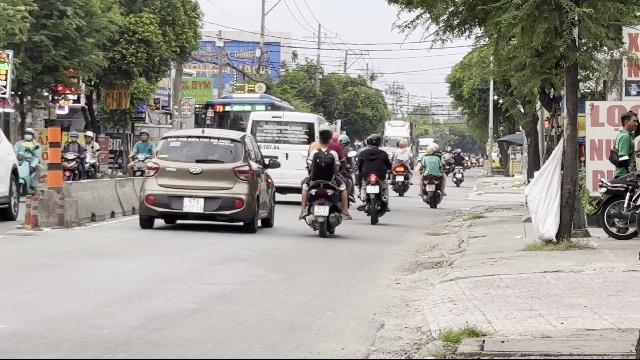helmet: (318, 122, 334, 136)
licenseplate: (314, 206, 330, 216)
motorcyclist: (299, 121, 355, 239)
nohelmet: (318, 130, 334, 148)
